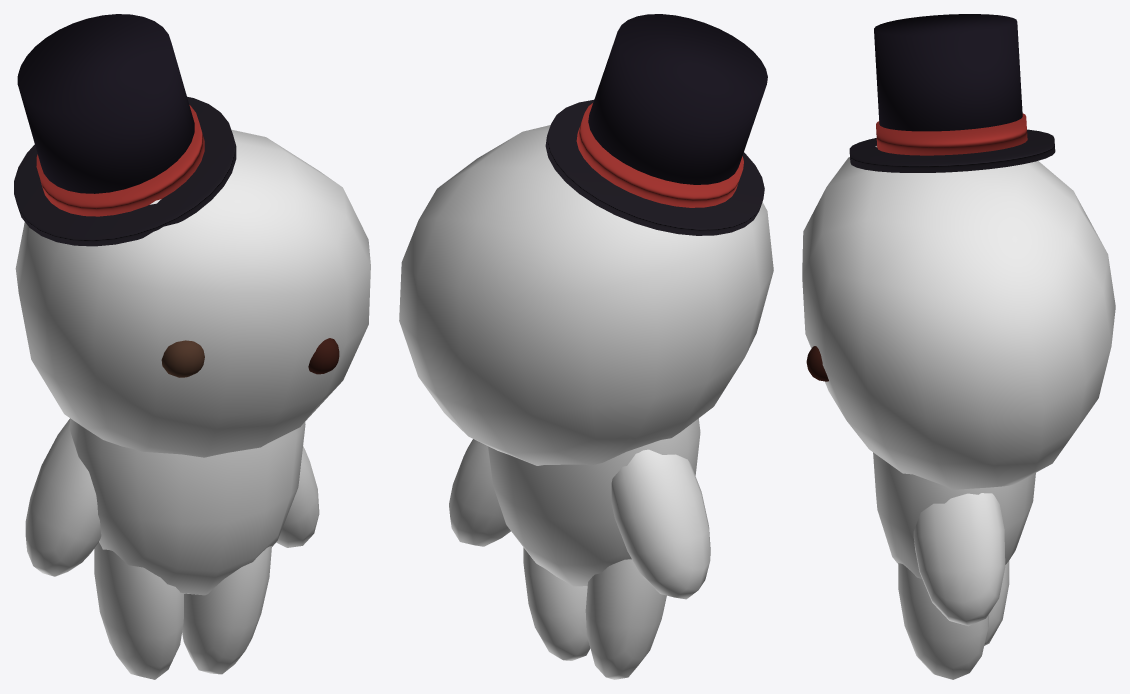
Rendered from baldguy.fbx.
3 views of the same model, side by side, from view 1: azimuth 30°, elevation 25°; view 2: azimuth 150°, elevation 25°; view 3: azimuth 270°, elevation 25° (orthographic). The views are drawn at different scales.
Visible parts, largest first — view 1: Cube, Cube.001, Cylinder.001, Cylinder, Cube.006, Cube.005, Cube.004, Cylinder.002, Cube.003, Cube.002, Cube.007; view 2: Cube, Cylinder.001, Cube.001, Cube.005, Cylinder, Cube.006, Cube.004, Cylinder.002, Cube.003; view 3: Cube, Cylinder.001, Cube.003, Cube.001, Cube.004, Cylinder, Cylinder.002, Cube.006, Cube.007.
Boxes of the visible parts, x1=… form: Cube: x1=15, y1=129, x2=370, y2=457; Cube.001: x1=69, y1=418, x2=305, y2=595; Cylinder.001: x1=17, y1=14, x2=194, y2=193; Cylinder: x1=14, y1=96, x2=236, y2=246; Cube.006: x1=94, y1=542, x2=183, y2=679; Cube.005: x1=25, y1=418, x2=101, y2=576; Cube.004: x1=182, y1=546, x2=271, y2=674; Cylinder.002: x1=36, y1=105, x2=204, y2=216; Cube.003: x1=276, y1=446, x2=319, y2=547; Cube.002: x1=161, y1=340, x2=204, y2=377; Cube.007: x1=308, y1=338, x2=339, y2=374; Cube: x1=399, y1=125, x2=773, y2=465; Cylinder.001: x1=588, y1=14, x2=767, y2=184; Cube.001: x1=487, y1=418, x2=700, y2=586; Cube.005: x1=611, y1=449, x2=710, y2=599; Cylinder: x1=545, y1=100, x2=764, y2=235; Cube.006: x1=585, y1=559, x2=666, y2=679; Cube.004: x1=523, y1=547, x2=590, y2=660; Cylinder.002: x1=576, y1=103, x2=743, y2=207; Cube.003: x1=449, y1=439, x2=510, y2=546; Cube: x1=802, y1=146, x2=1115, y2=489; Cylinder.001: x1=874, y1=14, x2=1022, y2=131; Cube.003: x1=913, y1=493, x2=1005, y2=626; Cube.001: x1=873, y1=452, x2=1035, y2=578; Cube.004: x1=898, y1=563, x2=988, y2=679; Cylinder: x1=849, y1=129, x2=1055, y2=172; Cylinder.002: x1=876, y1=113, x2=1027, y2=155; Cube.006: x1=984, y1=561, x2=1009, y2=645; Cube.007: x1=806, y1=346, x2=828, y2=381.
Bounding box in the file's own units: 156 × 297 × 136.
